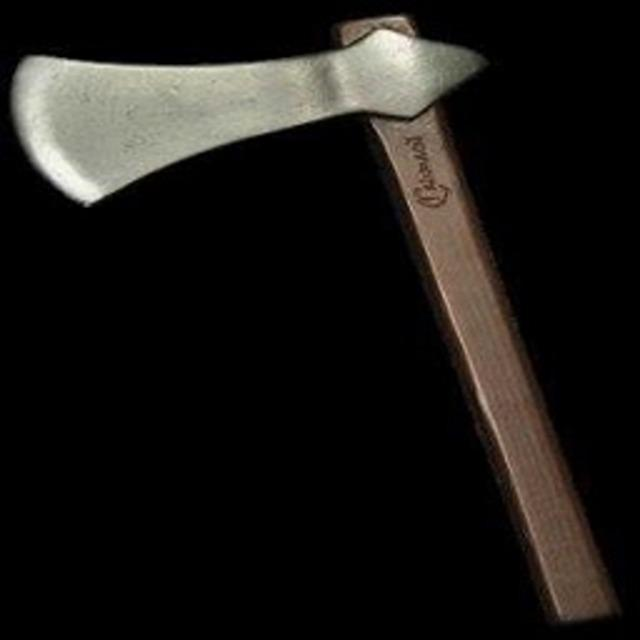ax: (8, 9, 622, 630)
